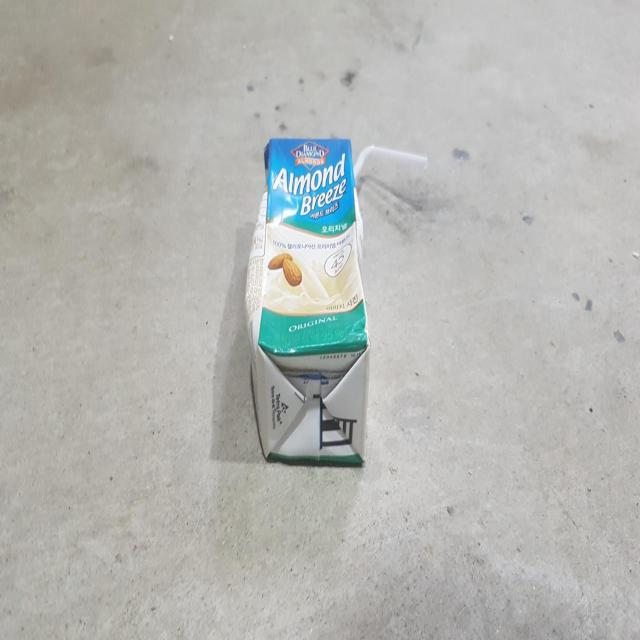paperpack: (245, 137, 370, 464)
